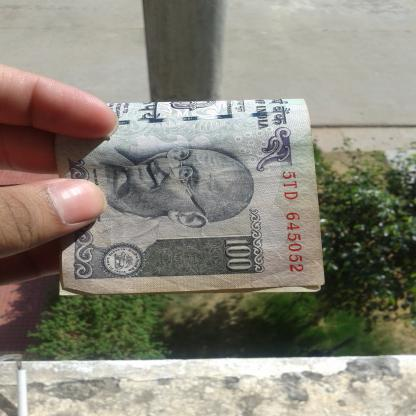Old100Front: (55, 98, 325, 297)
